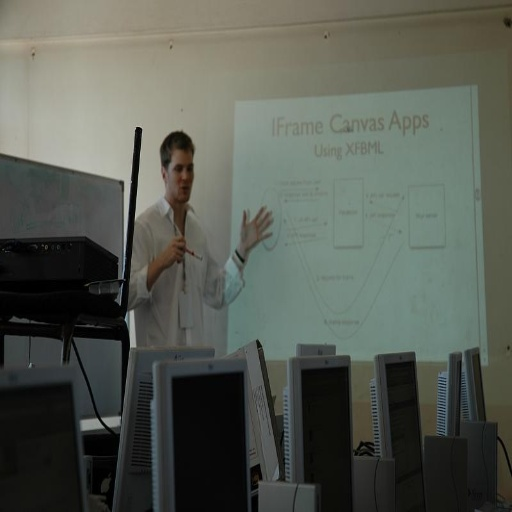hand: (232, 202, 280, 263), (159, 235, 186, 267)
